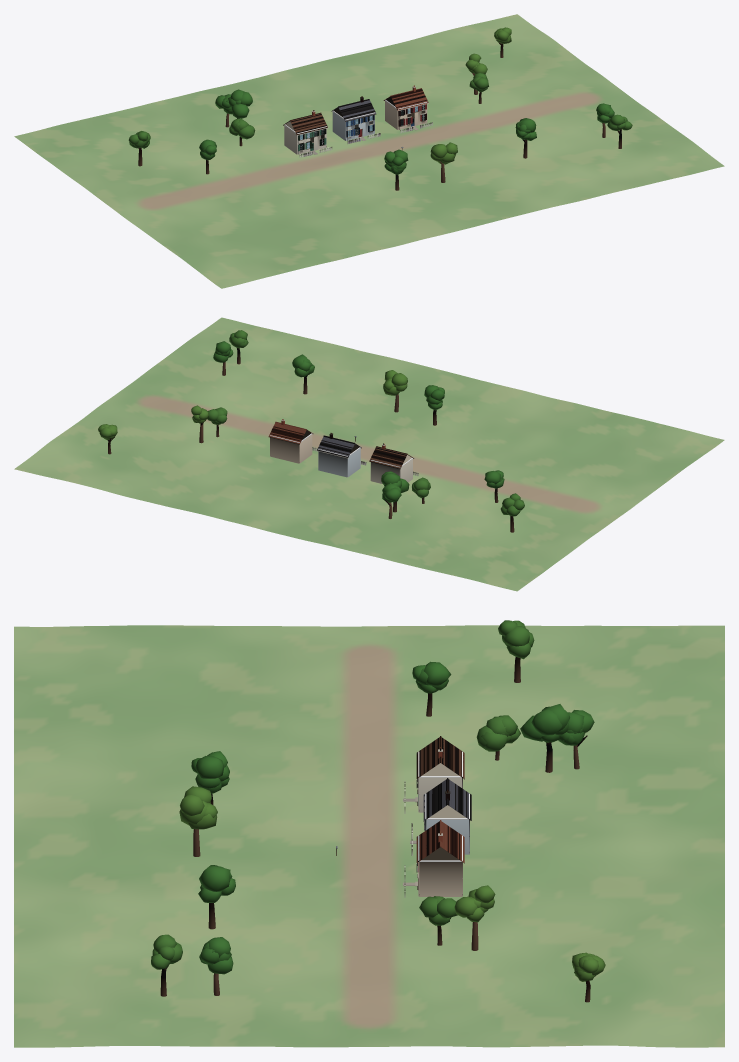
File: ohio.glb
3 views of the same model, one above another, from view 1: azimuth 30°, elevation 25°; view 2: azimuth 150°, elevation 25°; view 3: azimuth 270°, elevation 25° (orthographic). The views are drawn at different scales.
Parts seen in each view (by area): view 1: ohio.terrain.0, ohio.leaf.28, ohio.leaf.29, ohio.leaf.30, ohio.bark.27, ohio.plaster.8, ohio.plaster.21, ohio.plaster.23, ohio.roof.24, ohio.roof.11, ohio.roof.22; view 2: ohio.terrain.0, ohio.leaf.28, ohio.leaf.29, ohio.leaf.30, ohio.plaster.21, ohio.plaster.23, ohio.bark.27, ohio.plaster.8, ohio.roof.22, ohio.roof.11, ohio.roof.24; view 3: ohio.terrain.0, ohio.leaf.28, ohio.leaf.29, ohio.leaf.30, ohio.bark.27, ohio.plaster.23, ohio.roof.11, ohio.roof.24, ohio.roof.22, ohio.plaster.13.
Part boxes in pixels (bbox=[...]): ohio.terrain.0: bbox=[14, 14, 724, 288]; ohio.leaf.28: bbox=[199, 89, 614, 174]; ohio.leaf.29: bbox=[128, 73, 632, 148]; ohio.leaf.30: bbox=[430, 27, 511, 164]; ohio.bark.27: bbox=[138, 40, 621, 190]; ohio.plaster.8: bbox=[284, 125, 326, 154]; ohio.plaster.21: bbox=[332, 111, 374, 140]; ohio.plaster.23: bbox=[385, 101, 427, 129]; ohio.roof.24: bbox=[384, 88, 428, 110]; ohio.roof.11: bbox=[283, 112, 327, 134]; ohio.roof.22: bbox=[331, 99, 376, 121]; ohio.terrain.0: bbox=[14, 317, 724, 591]; ohio.leaf.28: bbox=[213, 341, 504, 502]; ohio.leaf.29: bbox=[207, 330, 524, 516]; ohio.leaf.30: bbox=[98, 370, 407, 439]; ohio.plaster.21: bbox=[318, 448, 360, 477]; ohio.plaster.23: bbox=[270, 434, 312, 463]; ohio.bark.27: bbox=[107, 348, 514, 532]; ohio.plaster.8: bbox=[370, 459, 412, 483]; ohio.roof.22: bbox=[317, 435, 361, 457]; ohio.roof.11: bbox=[369, 446, 413, 468]; ohio.roof.24: bbox=[268, 421, 313, 443]; ohio.terrain.0: bbox=[14, 625, 724, 1047]; ohio.leaf.28: bbox=[191, 661, 594, 974]; ohio.leaf.29: bbox=[151, 620, 534, 969]; ohio.leaf.30: bbox=[179, 786, 605, 981]; ohio.bark.27: bbox=[160, 657, 590, 1002]; ohio.plaster.23: bbox=[418, 862, 462, 896]; ohio.roof.11: bbox=[416, 736, 464, 778]; ohio.roof.24: bbox=[416, 820, 464, 862]; ohio.roof.22: bbox=[423, 778, 471, 820]; ohio.plaster.13: bbox=[421, 763, 466, 860].
Bounding box in the file's own units: 140 × 10.85 × 100.
